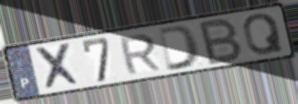7: (80, 36, 111, 84)
B: (198, 16, 245, 67)
D: (156, 23, 202, 73)
Q: (241, 12, 286, 57)
R: (117, 32, 164, 77)
X: (32, 41, 84, 92)
